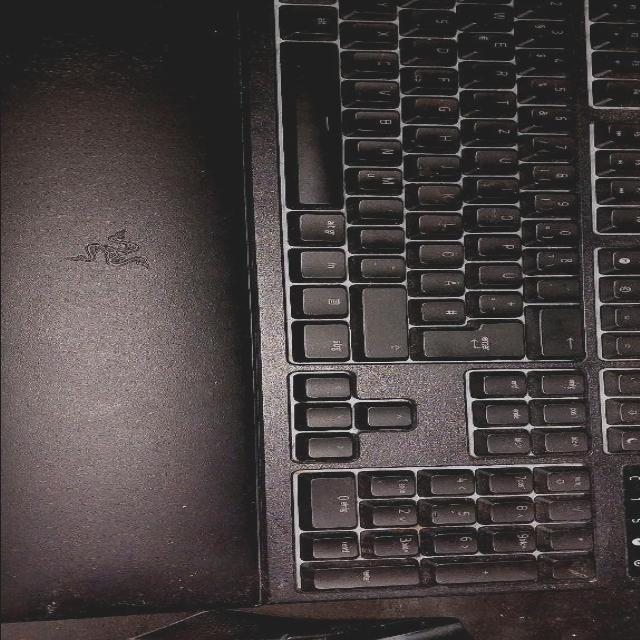0: (539, 220, 586, 240)
1: (527, 0, 576, 6)
2: (529, 1, 577, 11)
3: (526, 18, 578, 40)
4: (532, 47, 579, 69)
5: (532, 76, 581, 96)
6: (534, 104, 582, 126)
7: (537, 134, 581, 154)
8: (535, 162, 582, 183)
9: (536, 190, 582, 212)
a: (414, 0, 461, 7)
accent: (541, 276, 587, 297)
ae: (424, 270, 472, 292)
alt-left: (287, 3, 345, 35)
altgr-right: (301, 211, 351, 242)
b: (357, 108, 407, 130)
c: (355, 49, 405, 71)
caret: (530, 0, 575, 6)
comma: (363, 197, 410, 218)
d: (411, 37, 463, 59)
del: (496, 579, 640, 640), (543, 305, 591, 355)
e: (469, 31, 521, 52)
enter: (424, 319, 534, 357)
f: (416, 67, 464, 88)
g: (417, 96, 465, 116)
h: (418, 125, 465, 146)
hash: (425, 299, 472, 321)
i: (481, 176, 525, 196)
j: (419, 154, 466, 176)
k: (421, 183, 469, 205)
keyboard: (234, 1, 640, 603)
l: (422, 212, 469, 234)
less: (352, 0, 402, 7)
m: (360, 167, 409, 189)
minus: (365, 255, 411, 276)
n: (360, 138, 408, 159)
o: (481, 204, 525, 226)
oe: (422, 241, 470, 263)
p: (482, 234, 528, 256)
plus: (482, 291, 530, 313)
point: (363, 227, 411, 249)
q: (466, 0, 520, 7)
r: (474, 60, 523, 82)
s: (411, 8, 463, 30)
shift-left: (348, 0, 400, 12)
shift-lock: (407, 1, 459, 19)
shift-right: (366, 284, 414, 357)
space: (288, 39, 348, 206)
ss: (541, 248, 587, 268)
strg-left: (287, 1, 341, 17)
strg-right: (306, 321, 356, 359)
t: (475, 89, 523, 111)
tab: (465, 0, 517, 14)
u: (478, 148, 524, 168)
ue: (483, 262, 529, 284)
v: (357, 79, 406, 100)
w: (472, 2, 521, 24)
x: (356, 21, 404, 42)
y: (351, 0, 403, 13)
z: (477, 118, 523, 139)
